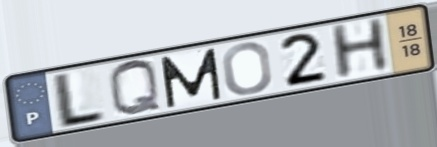2: (277, 31, 331, 89)
H: (326, 15, 394, 83)
L: (53, 70, 108, 131)
M: (158, 46, 226, 111)
O: (219, 40, 275, 97)
Q: (106, 58, 165, 119)
